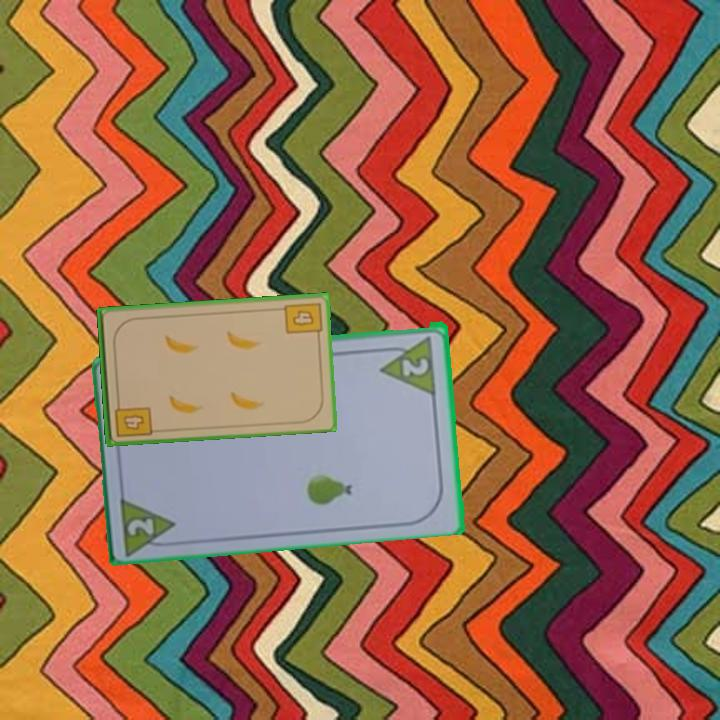2p: (117, 490, 182, 555), (376, 331, 439, 396)
4b: (111, 396, 154, 440), (281, 299, 325, 341)
